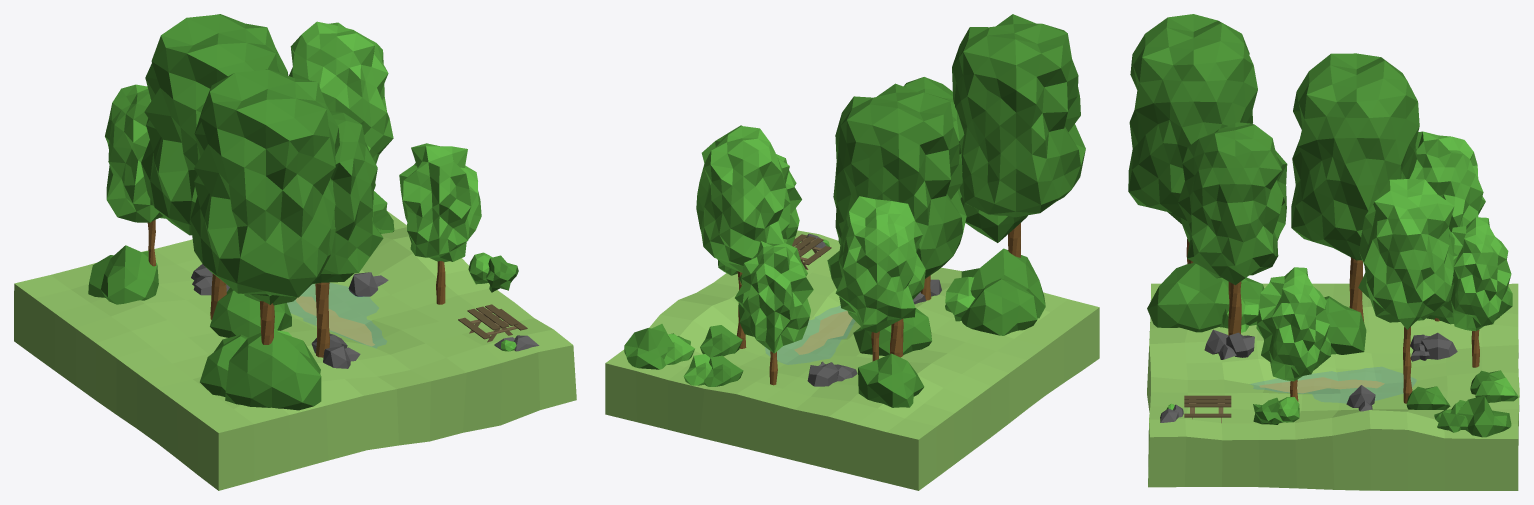
The model's file is Park.fbx.
The picture shows the model from 3 angles, left to right: view 1: azimuth 30°, elevation 25°; view 2: azimuth 150°, elevation 25°; view 3: azimuth 270°, elevation 25°; orthographic projection. The views are drawn at different scales.
Parts seen in each view (by area): view 1: Cube, Sphere_14, Sphere_1, Sphere, Sphere_7, Sphere_6, Sphere_22, Sphere_9, Sphere_10, Cube_1, Sphere_5, Sphere_21 (+3 smaller); view 2: Cube, Sphere_14, Sphere_1, Sphere, Sphere_9, Sphere_8, Sphere_21, Sphere_10, Cube_1, Sphere_22, Sphere_5, Sphere_30 (+10 smaller); view 3: Cube, Sphere_1, Sphere_14, Sphere_6, Sphere, Sphere_7, Sphere_8, Sphere_9, Sphere_22, Cube_1, Sphere_5, Sphere_30 (+14 smaller).
Part boxes in pixels (x1=…): Cube: x1=14, y1=211, x2=576, y2=490; Sphere_14: x1=190, y1=69, x2=339, y2=297; Sphere_1: x1=141, y1=14, x2=288, y2=235; Sphere: x1=289, y1=21, x2=393, y2=163; Sphere_7: x1=399, y1=143, x2=481, y2=262; Sphere_6: x1=312, y1=111, x2=383, y2=283; Sphere_22: x1=225, y1=328, x2=321, y2=410; Sphere_9: x1=105, y1=84, x2=165, y2=222; Sphere_10: x1=88, y1=245, x2=158, y2=304; Cube_1: x1=287, y1=283, x2=386, y2=348; Sphere_5: x1=210, y1=287, x2=291, y2=337; Sphere_21: x1=200, y1=334, x2=248, y2=396; Cube: x1=605, y1=230, x2=1099, y2=490; Sphere_14: x1=952, y1=14, x2=1085, y2=217; Sphere_1: x1=833, y1=83, x2=966, y2=278; Sphere: x1=696, y1=125, x2=790, y2=272; Sphere_9: x1=827, y1=196, x2=925, y2=332; Sphere_8: x1=735, y1=241, x2=813, y2=353; Sphere_21: x1=961, y1=278, x2=1037, y2=335; Sphere_10: x1=858, y1=353, x2=924, y2=407; Cube_1: x1=765, y1=306, x2=854, y2=364; Sphere_22: x1=961, y1=248, x2=1045, y2=318; Sphere_5: x1=853, y1=308, x2=931, y2=355; Sphere_30: x1=624, y1=328, x2=673, y2=369; Cube: x1=1147, y1=283, x2=1519, y2=490; Sphere_1: x1=1291, y1=53, x2=1419, y2=260; Sphere_14: x1=1128, y1=14, x2=1257, y2=220; Sphere_6: x1=1178, y1=122, x2=1287, y2=285; Sphere: x1=1358, y1=179, x2=1454, y2=329; Sphere_7: x1=1256, y1=267, x2=1330, y2=381; Sphere_8: x1=1443, y1=217, x2=1512, y2=331; Sphere_9: x1=1409, y1=131, x2=1485, y2=231; Sphere_22: x1=1147, y1=262, x2=1229, y2=332; Cube_1: x1=1250, y1=367, x2=1416, y2=403; Sphere_5: x1=1324, y1=296, x2=1366, y2=354; Sphere_30: x1=1457, y1=395, x2=1511, y2=437.
Size of the model in its own units: 517 by 523 by 533.
